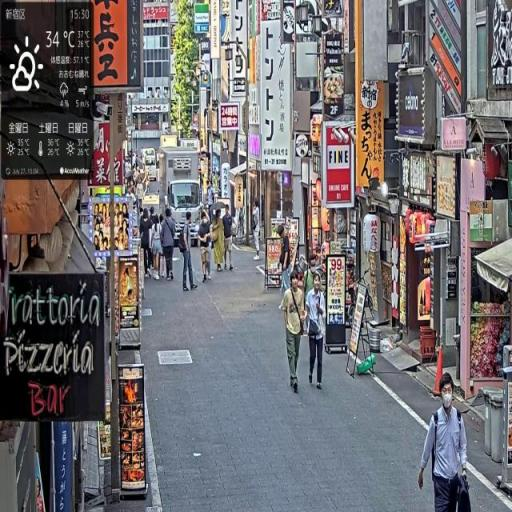person: (417, 374, 473, 512), (283, 267, 308, 394), (305, 269, 328, 392), (180, 211, 198, 293), (197, 210, 214, 286), (161, 207, 177, 280), (140, 208, 154, 277), (222, 204, 236, 273), (253, 200, 264, 261)
